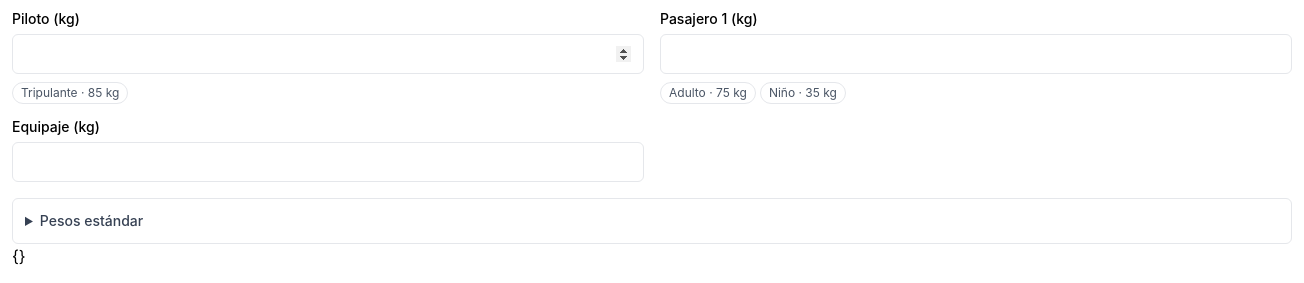
Scenario: StationForm standard weights › loads the standard weight in lbs, reading back as the exact kg value
Step 1. Click the button with aria-label "Adulto (75 kg): Pasajero 1" → (708, 93), box 660,82 -> 756,104
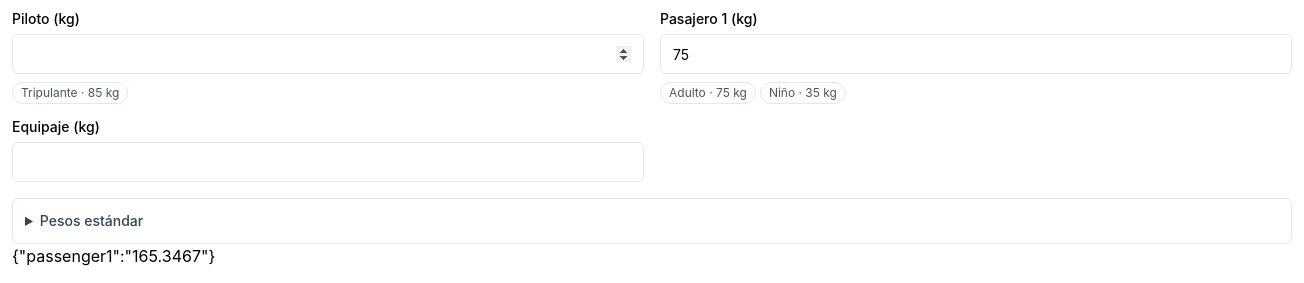
Expected: the number field labelled "Pasajero 1 (kg)" holds "75", 660,34 -> 1292,74
